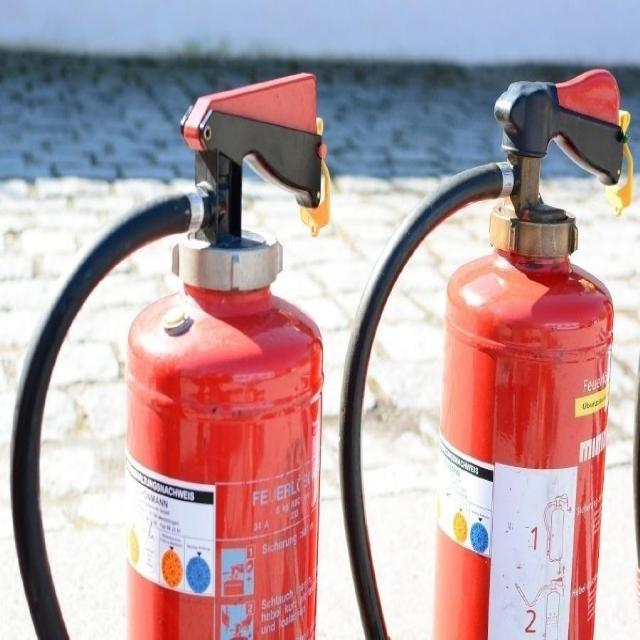fire_extinguisher: (5, 68, 333, 639), (333, 63, 635, 639)
